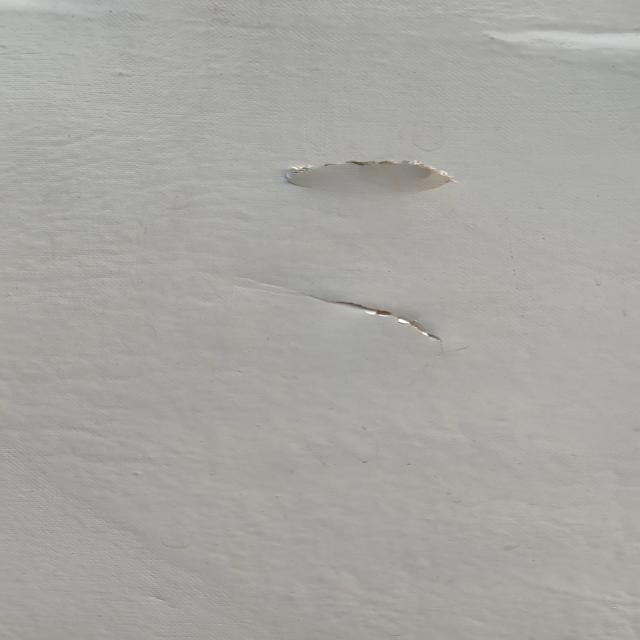Dents or Deformation: (465, 19, 640, 68)
Scratches: (248, 273, 490, 350), (254, 144, 490, 192)
